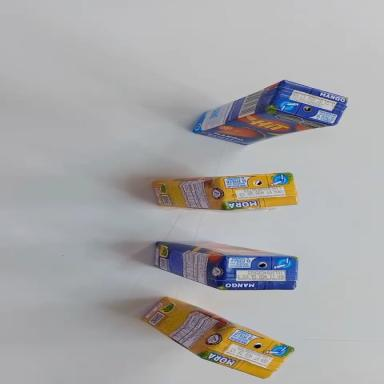HIT-MANGO: (186, 68, 352, 156), (149, 233, 300, 302)
HIT-MORA: (137, 289, 295, 384), (152, 171, 298, 215)
cara_F: (194, 96, 335, 156), (158, 232, 295, 268)
